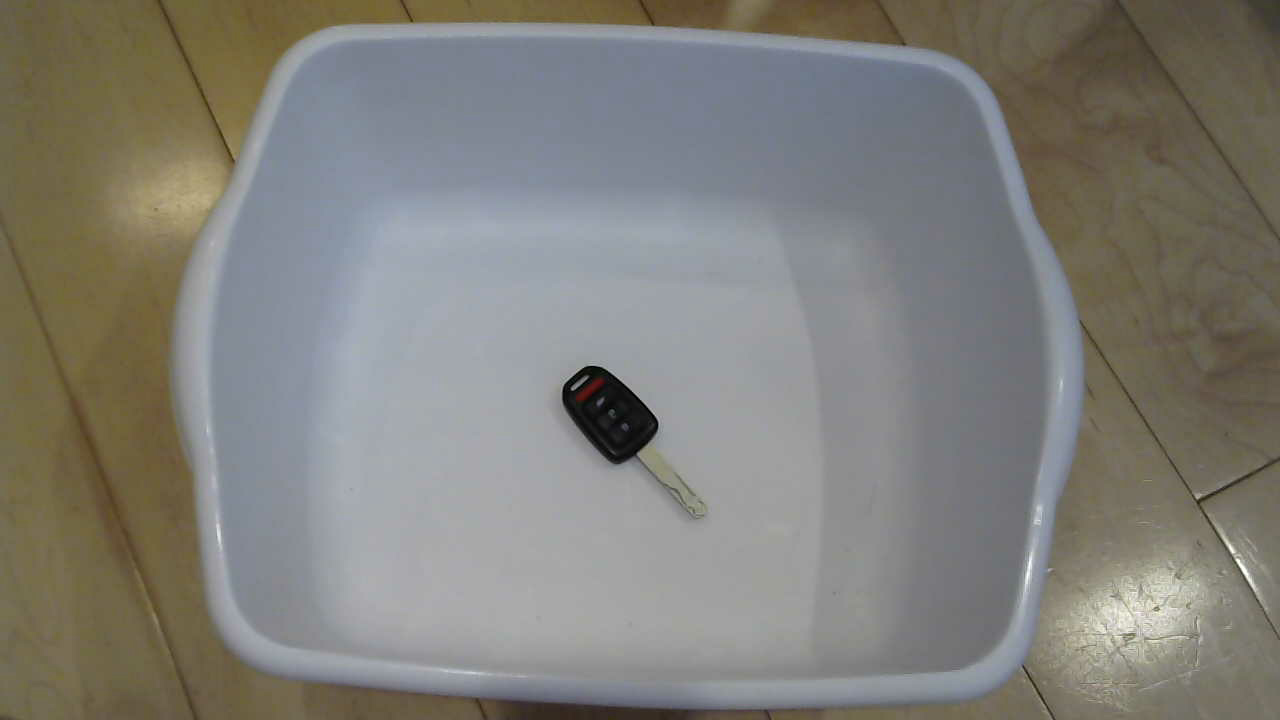key: (551, 365, 742, 528)
